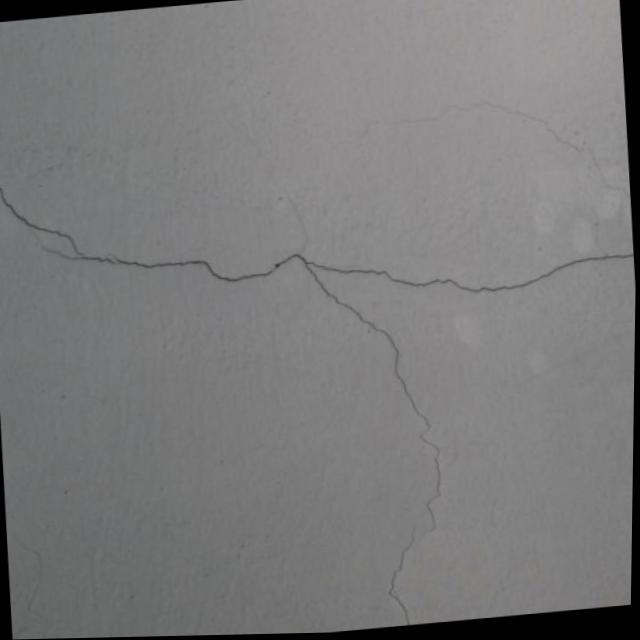Crack: (0, 116, 638, 345), (320, 309, 476, 633)
